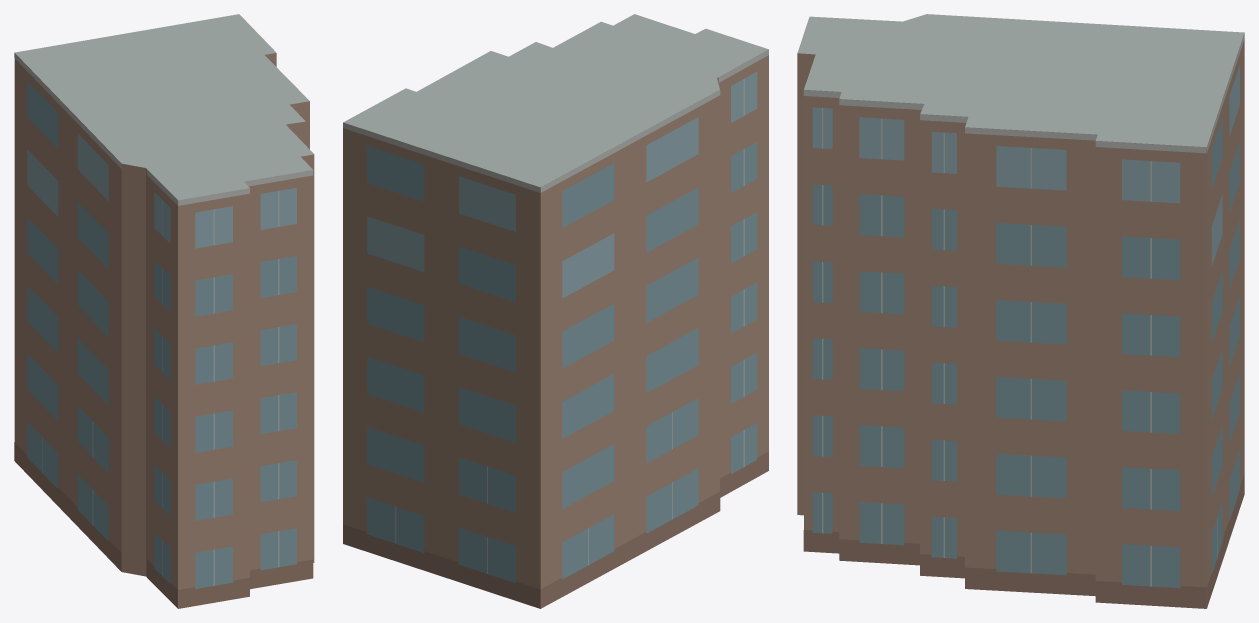
File: survey-upis-32994450.glb
3 views of the same model, side by side, from view 1: azimuth 30°, elevation 25°; view 2: azimuth 150°, elevation 25°; view 3: azimuth 270°, elevation 25° (orthographic). The views are drawn at different scales.
Visible parts, largest first — view 1: survey-upis-32994450.tmp; view 2: survey-upis-32994450.tmp; view 3: survey-upis-32994450.tmp.
Part boxes in pixels (bbox=[...]): survey-upis-32994450.tmp: bbox=[14, 14, 314, 608]; survey-upis-32994450.tmp: bbox=[343, 14, 768, 608]; survey-upis-32994450.tmp: bbox=[797, 14, 1244, 608].
Size of the model in its own units: 11.21 by 18.1 by 15.9.
